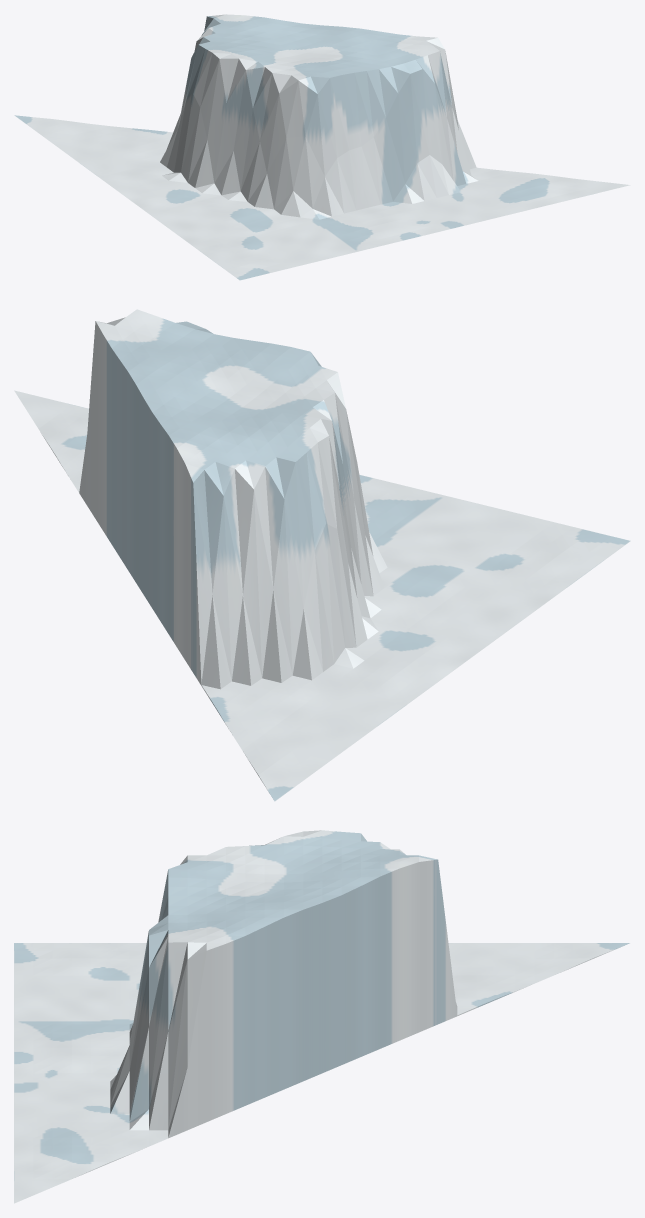
The model's file is Snow_Mountains_12_NW.obj.
The picture shows the model from 3 angles, top to bottom: view 1: azimuth 30°, elevation 25°; view 2: azimuth 150°, elevation 25°; view 3: azimuth 270°, elevation 25°; orthographic projection. The views are drawn at different scales.
Size of the model in its own units: 10 by 3.08 by 10.
Materials: 1 (1 with a texture image).
